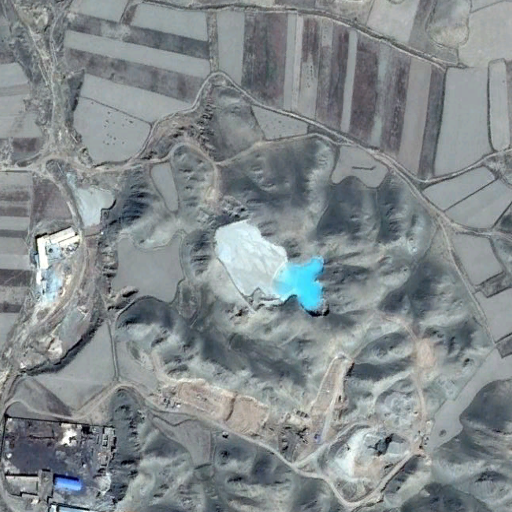tp: (209, 216, 332, 317)
